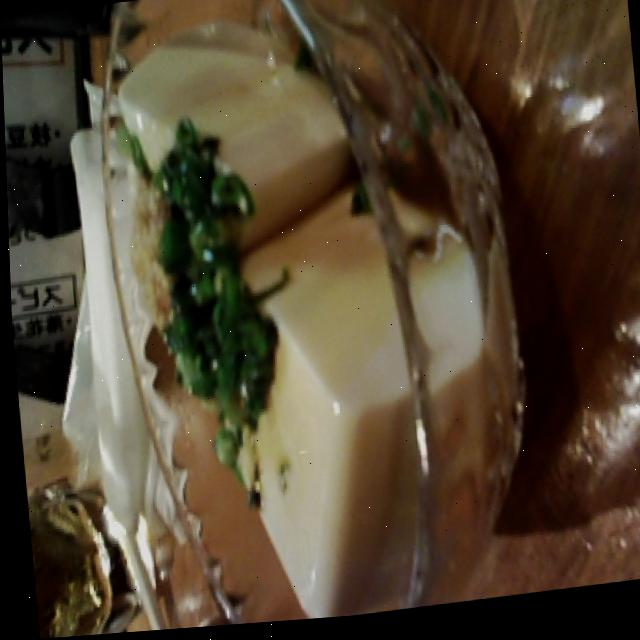豆腐料理: (104, 0, 506, 634)
